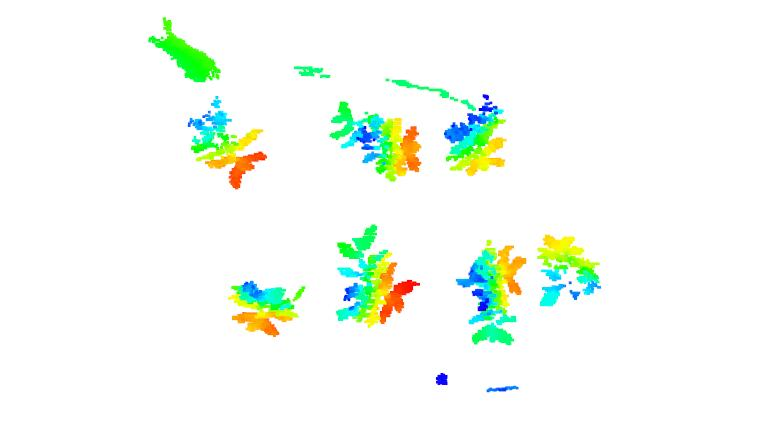chickpea: (334, 219, 416, 326), (185, 92, 267, 192), (333, 101, 426, 180), (460, 238, 524, 346), (538, 232, 606, 308), (442, 97, 506, 173), (230, 276, 301, 337)
